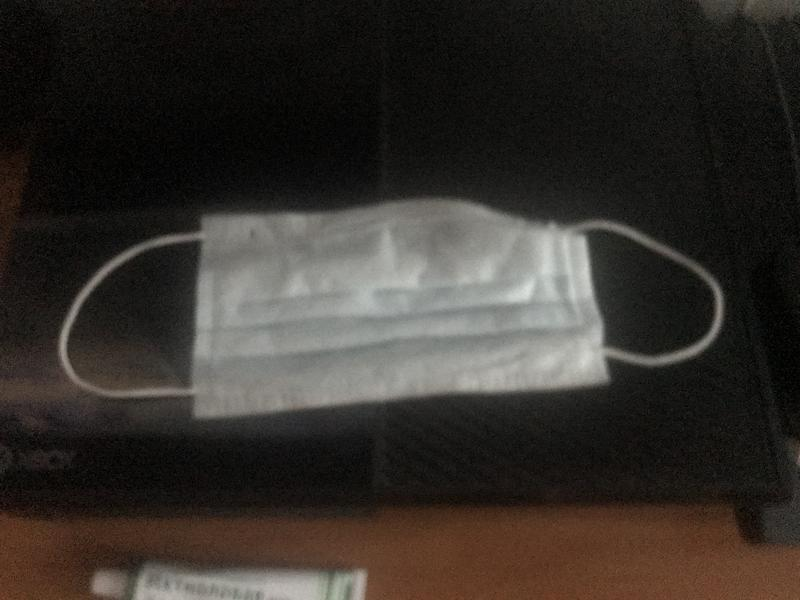medical_mask: (59, 198, 723, 419)
